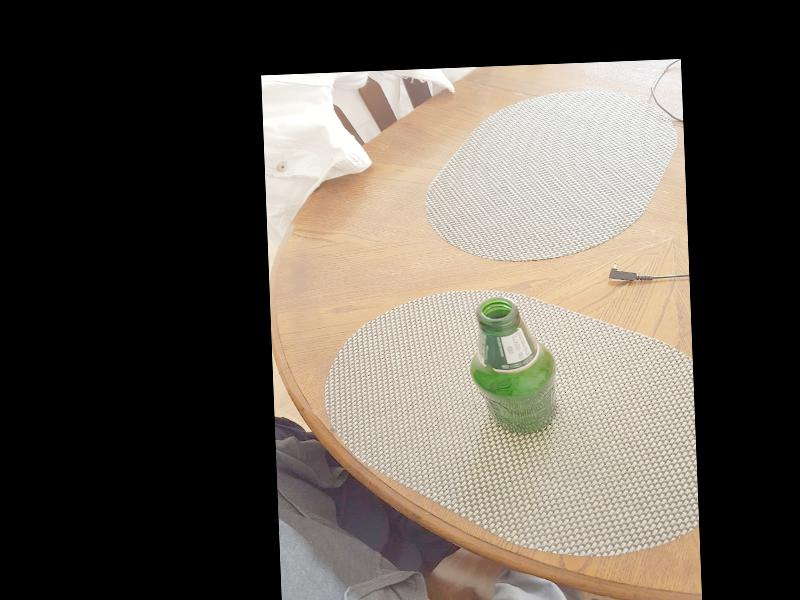Beer: (466, 296, 557, 436)
